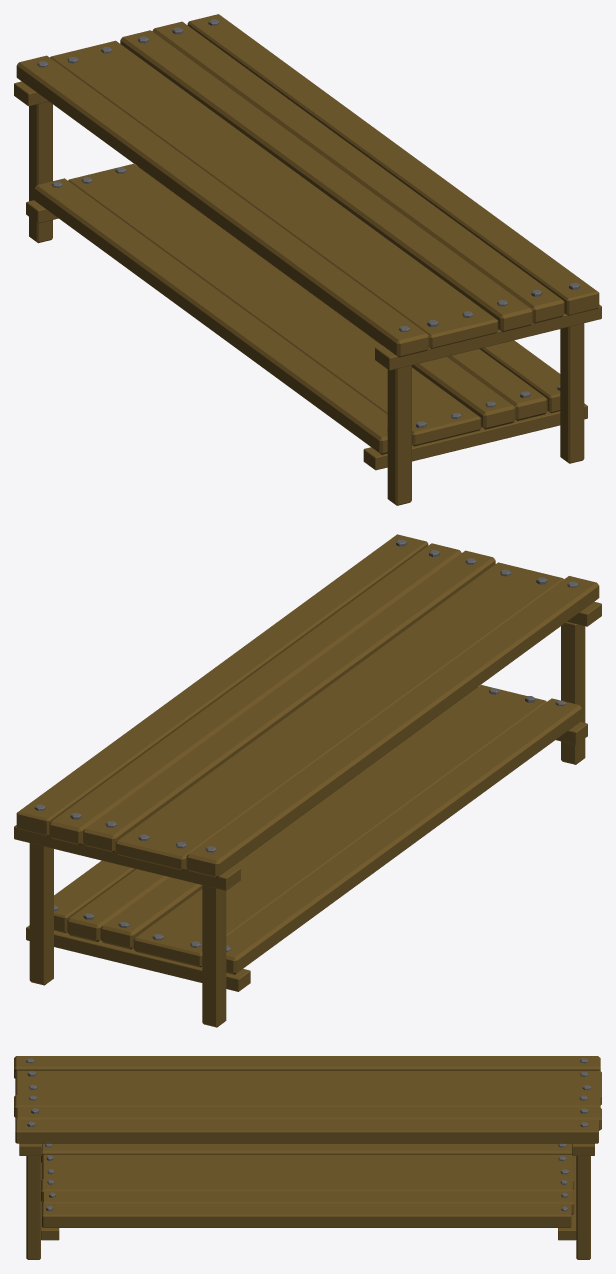
File: giant2bench2.fbx
3 renders of one model, top to bottom at view 1: azimuth 30°, elevation 25°; view 2: azimuth 150°, elevation 25°; view 3: azimuth 270°, elevation 25°, orthographic. The views are drawn at different scales.
Visible parts, largest first — view 1: polySurface1407; view 2: polySurface1407; view 3: polySurface1407.
Boxes of the visible parts, bbox=[...] form: polySurface1407: bbox=[14, 14, 601, 505]; polySurface1407: bbox=[14, 534, 601, 1027]; polySurface1407: bbox=[14, 1056, 601, 1259].
Bounding box in the file's own units: 3.27 × 2.58 × 10.21.
